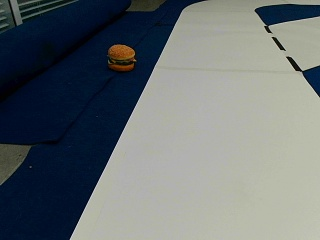burger: (107, 43, 136, 71)
